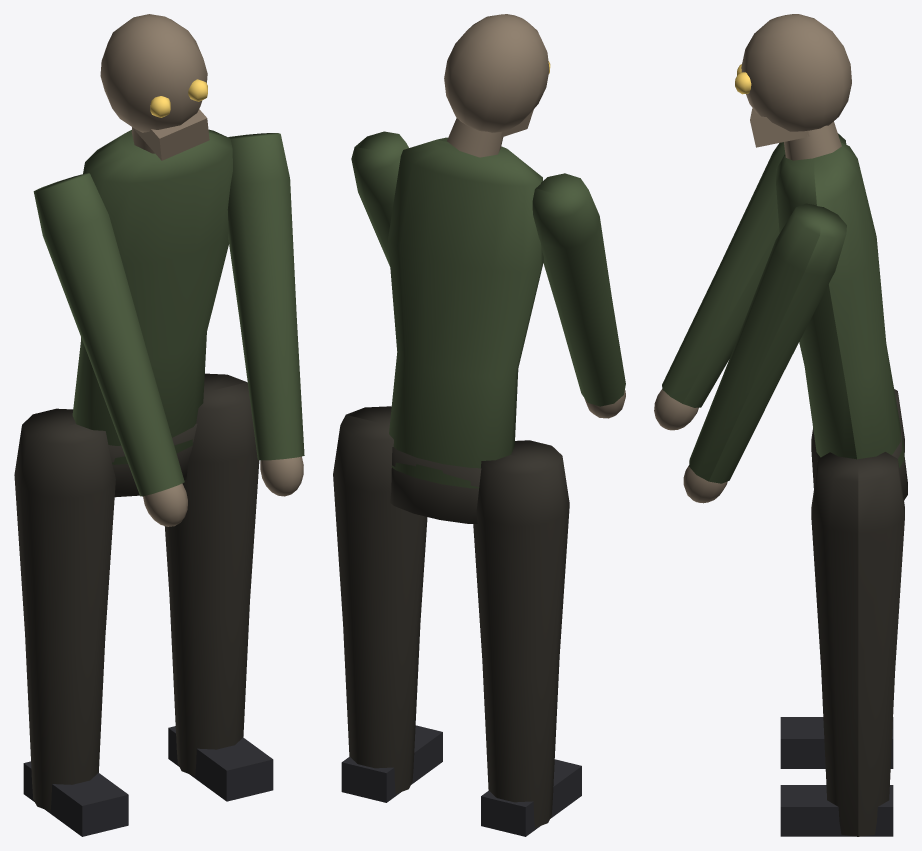
File: husk_shambler.glb
3 views of the same model, side by side, from view 1: azimuth 30°, elevation 25°; view 2: azimuth 150°, elevation 25°; view 3: azimuth 270°, elevation 25° (orthographic). The views are drawn at different scales.
Parts seen in each view (by area): view 1: husk_shambler; view 2: husk_shambler; view 3: husk_shambler.
Part boxes in pixels (x1,y1,x2,y2): husk_shambler: [14, 14, 304, 836]; husk_shambler: [333, 14, 625, 836]; husk_shambler: [654, 14, 907, 836].
Size of what is drawn, in the model's own units: 0.5722 by 1.79 by 0.5396.
